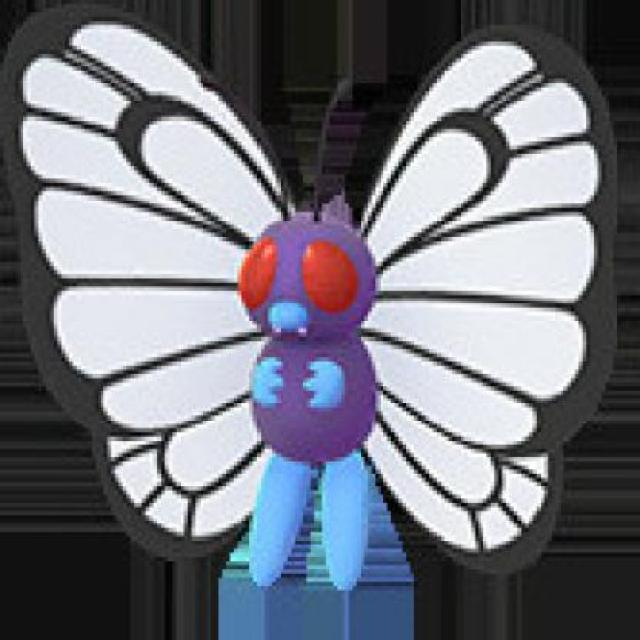Butterfree: (114, 89, 516, 561)
